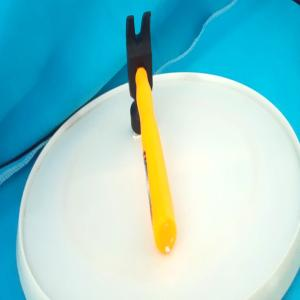martelo: (126, 10, 178, 256)
